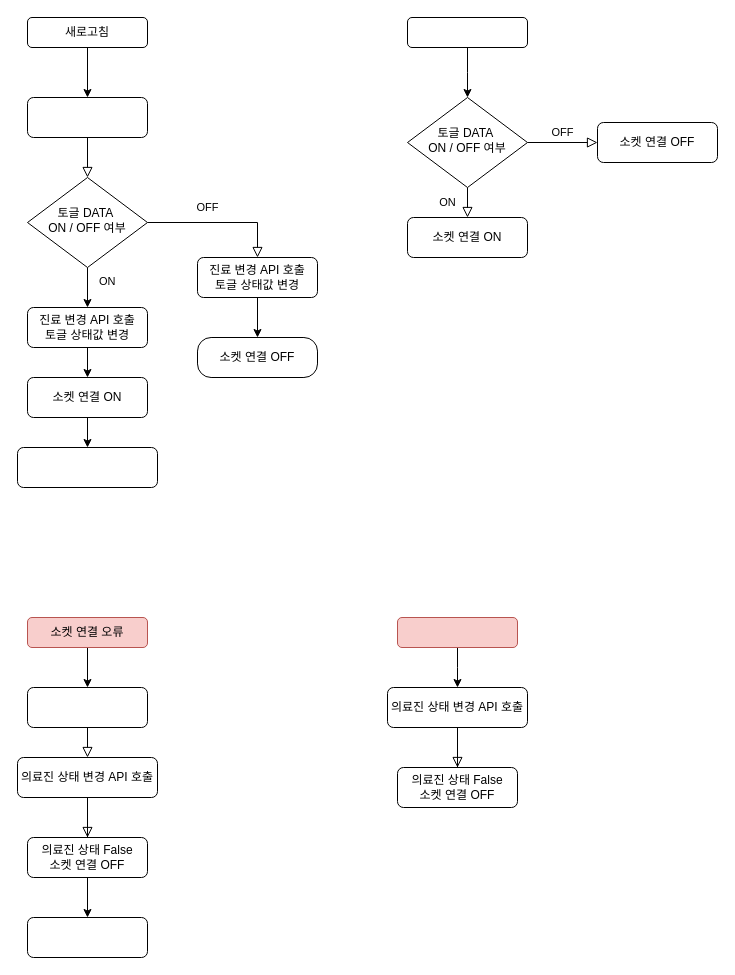
This 735x975 diagram has some shape labels left out. Here are the shapes that lost their labels. From the top down, the centre of each, then its label:
point (467, 32): 토글 이벤트
point (87, 117): 진료 상태 API 호출
point (87, 467): 의사 진료 가능 상태값 변경
point (457, 632): 로그아웃
point (87, 707): 오류 Alert 노출
point (87, 937): 토글 OFF 처리
